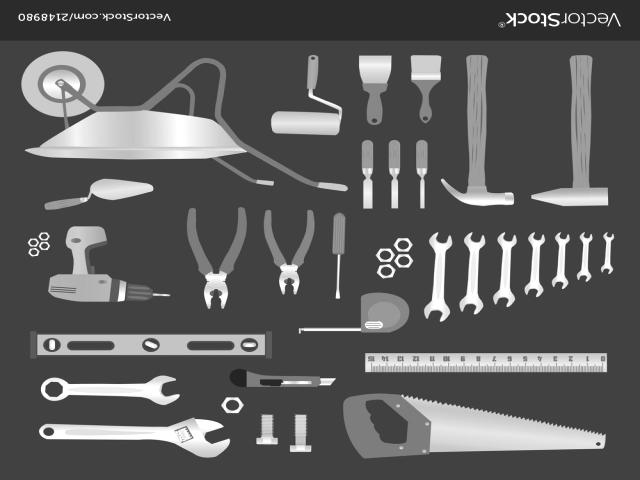Adjustable spanner: (39, 418, 230, 457)
Drill: (49, 226, 170, 301)
Hammer: (531, 55, 609, 206), (441, 54, 514, 206)
Handsaw: (344, 394, 606, 458)
Pliers: (188, 208, 246, 308), (264, 210, 314, 294)
Screwdriver: (41, 376, 180, 405), (332, 213, 345, 298)
Tape measure: (299, 292, 409, 332)
Utility knife: (230, 369, 335, 387)
Wrench: (424, 233, 452, 321), (460, 233, 485, 314), (494, 233, 516, 306), (525, 232, 545, 296), (551, 233, 570, 289), (576, 232, 593, 282), (601, 232, 614, 274)
